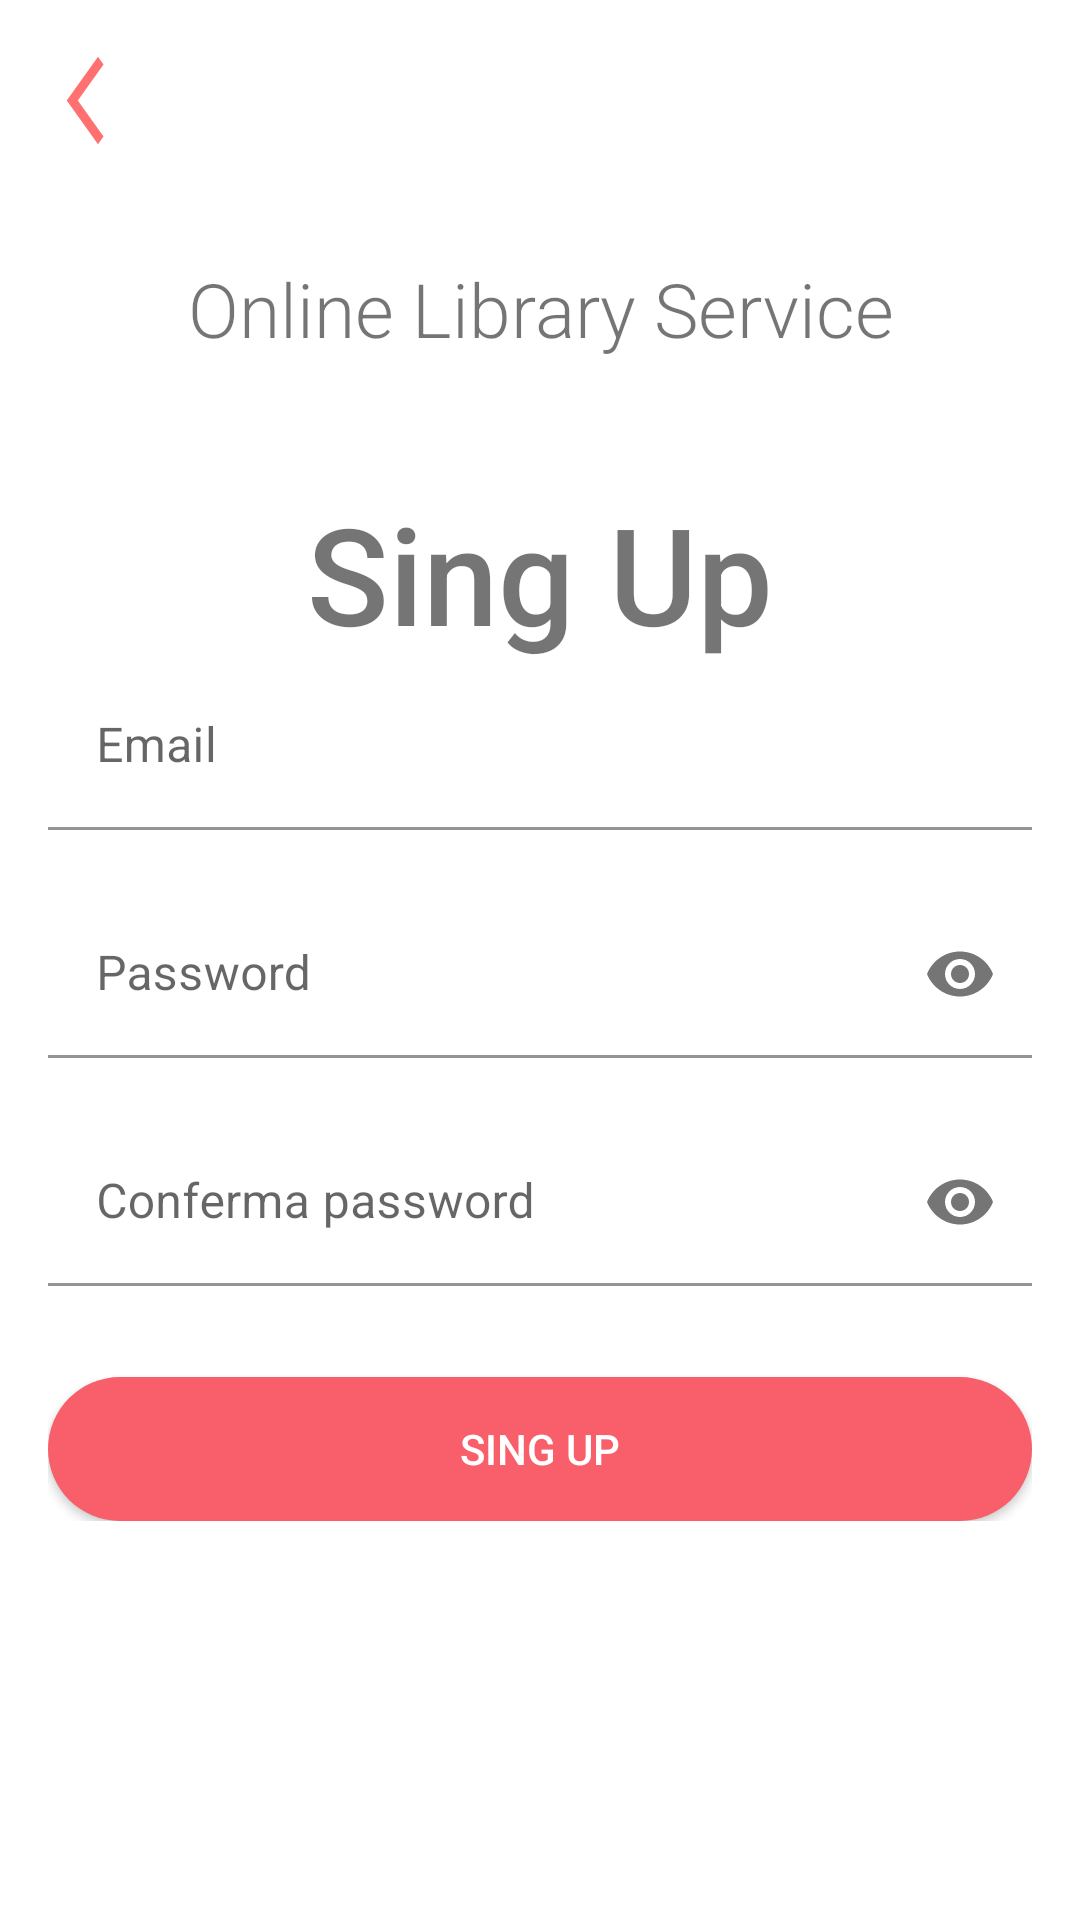

Icons on this 1080px×1920px Android screen, each with its box as (x1, y1, x2, y2):
back: (67, 57, 104, 144)
